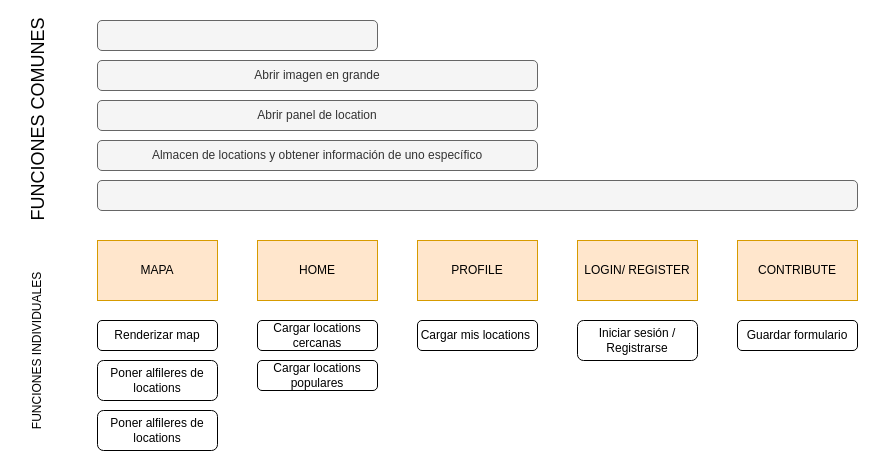
Some shapes in this 875 by 468 pixel diagram are drawn without their labels. Here are the shapes that lost their labels. From the top down, the box of each, then its label:
(96, 20, 378, 50): Acceder a datos geográficos del usuario
(96, 180, 858, 210): Peticiones a API
